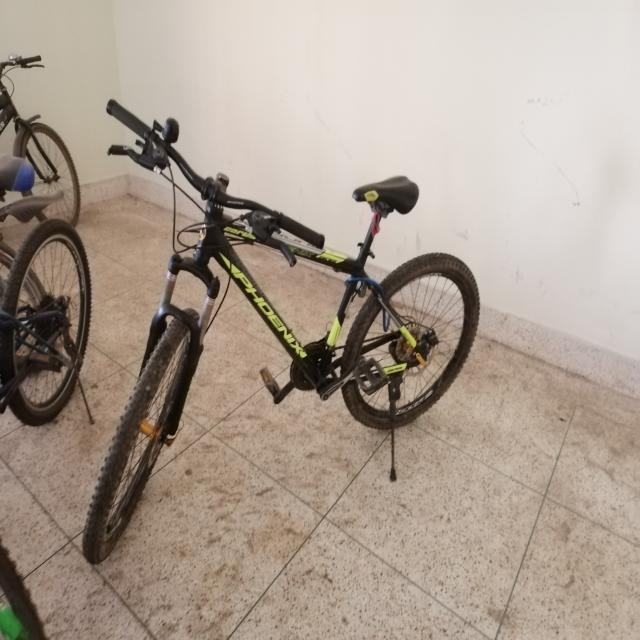Bicycle: (80, 95, 509, 573)
